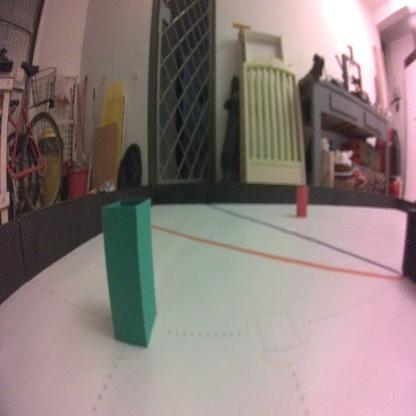green: (100, 192, 162, 350)
red: (294, 183, 309, 221)
